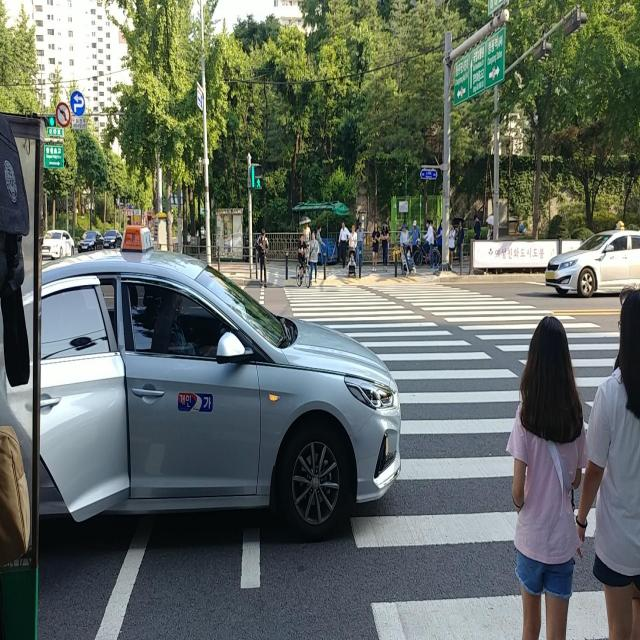초록불: (250, 164, 262, 190)
횡단보도: (284, 275, 640, 640)
